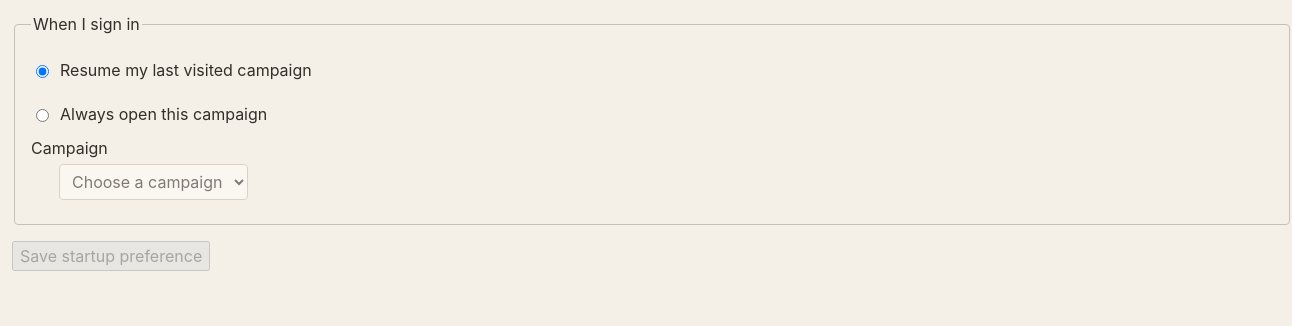
Test: CampaignStartupForm choosing and saving › clears the success message when the choice changes again
The image size is (1292, 326).
Step 1. Click the radio button labelled "Always open this campaign" → (42, 116), box [36, 109, 49, 122]
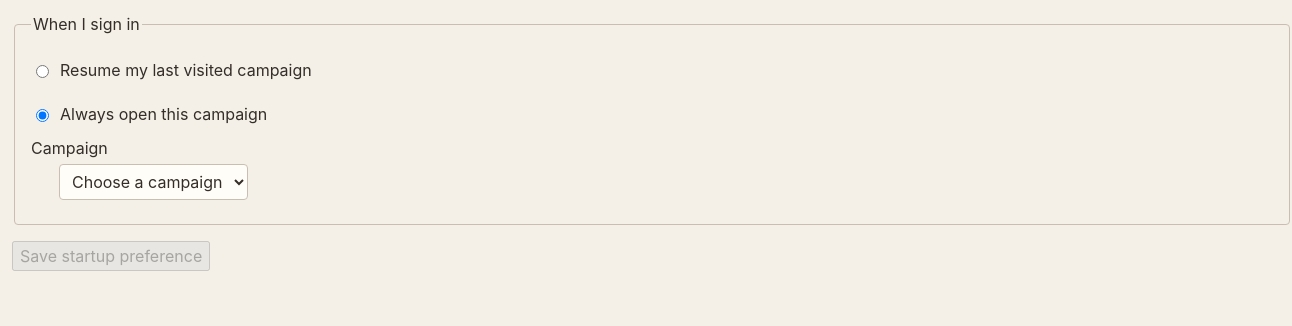
Step 2. Select "Alpha Campaign" in the dropdown labelled "Campaign" → (154, 182), box [59, 164, 248, 200]
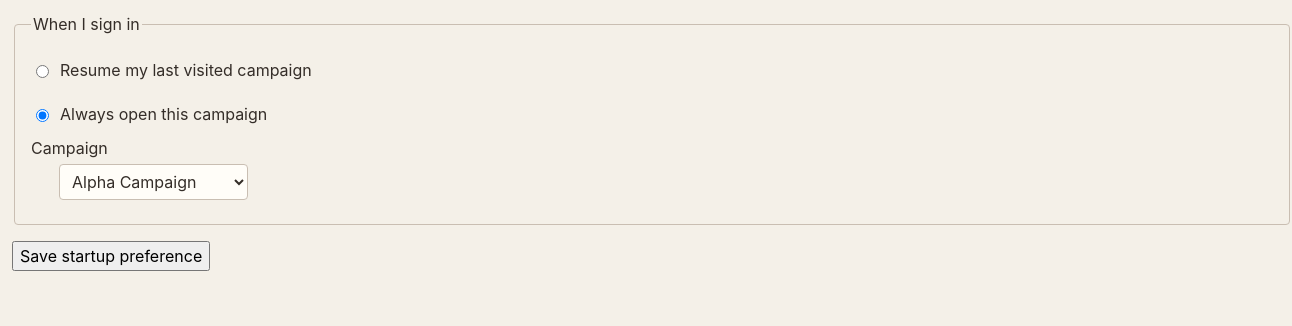
Step 3. Click the button "Save startup preference" → (111, 256), box [12, 241, 210, 271]
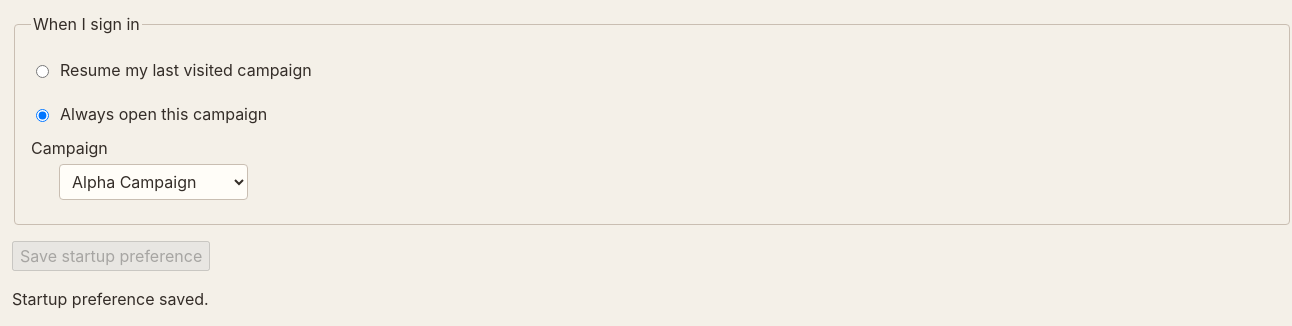
Check: the message shows "saved", box [12, 289, 209, 309]
Step 4. Select "Beta Campaign" in the dropdown labelled "Campaign" → (154, 182), box [59, 164, 248, 200]
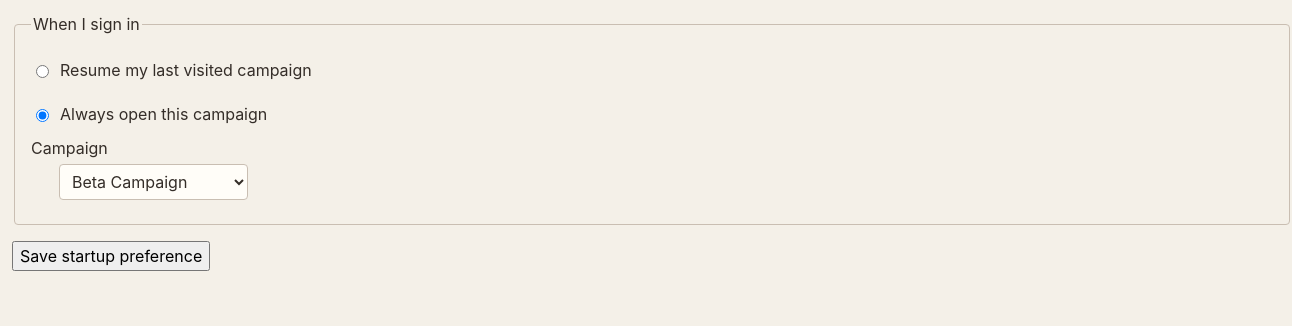
Check: the button "Save startup preference" is enabled, box [12, 241, 210, 271]
